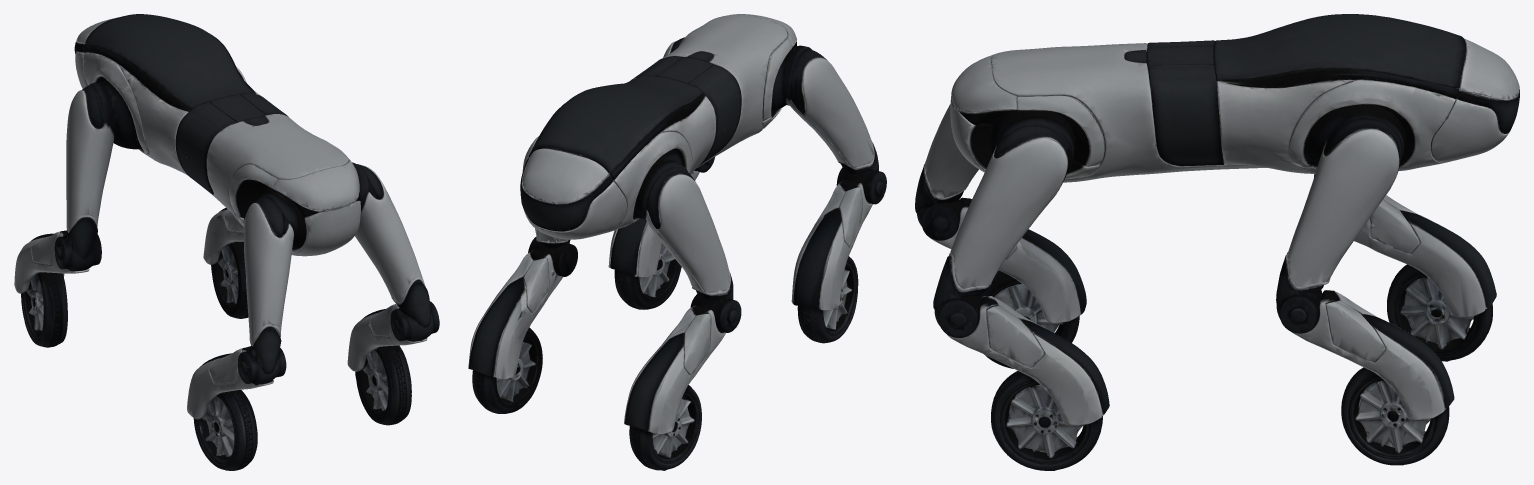
File: kodo.glb
3 renders of one model, left to right at view 1: azimuth 30°, elevation 25°; view 2: azimuth 150°, elevation 25°; view 3: azimuth 270°, elevation 25°, orthographic. The views are drawn at different scales.
Visible parts, largest first — view 1: tripo_node_2a6cd4b7-809a-47cd-90e4-c83d842abc78; view 2: tripo_node_2a6cd4b7-809a-47cd-90e4-c83d842abc78; view 3: tripo_node_2a6cd4b7-809a-47cd-90e4-c83d842abc78.
Boxes of the visible parts, x1,y1,x2,y2 form: tripo_node_2a6cd4b7-809a-47cd-90e4-c83d842abc78: (14, 14, 439, 470); tripo_node_2a6cd4b7-809a-47cd-90e4-c83d842abc78: (468, 14, 886, 470); tripo_node_2a6cd4b7-809a-47cd-90e4-c83d842abc78: (915, 14, 1519, 470).
Bounding box in the file's own units: 0.5211 × 0.6867 × 0.9792.
1 material, 1 textured.
